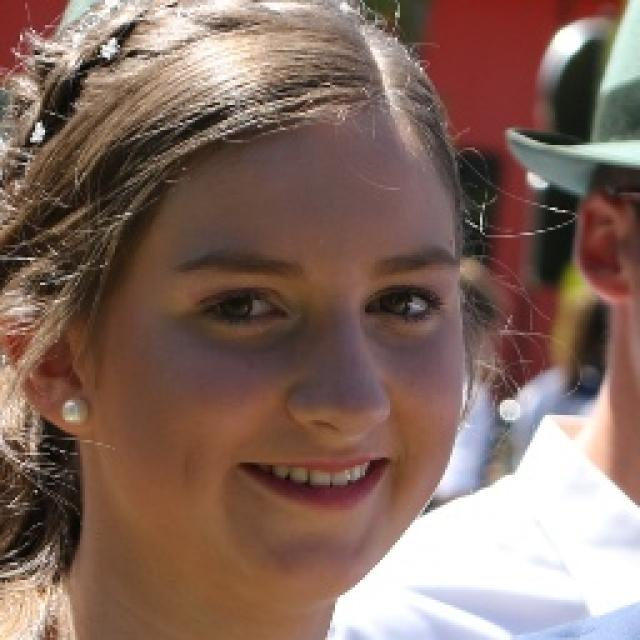earlobe: (0, 294, 93, 438), (573, 194, 629, 302)
